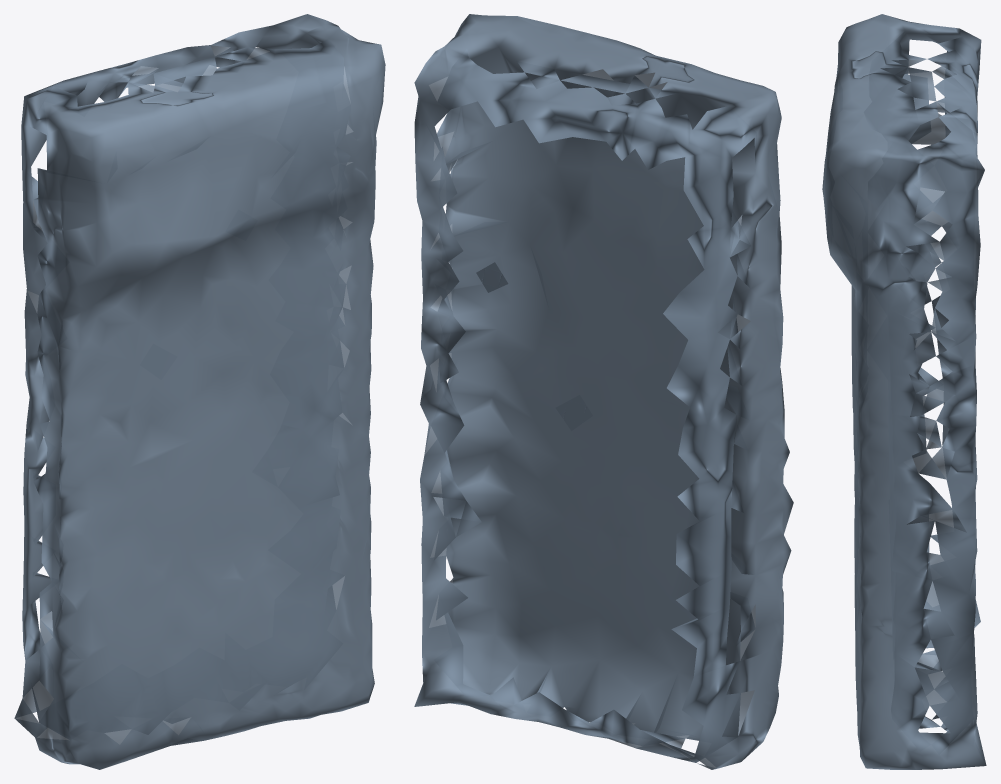
The model's file is bed_0143_recon.obj.
The picture shows the model from 3 angles, left to right: view 1: azimuth 30°, elevation 25°; view 2: azimuth 150°, elevation 25°; view 3: azimuth 270°, elevation 25°; orthographic projection. The views are drawn at different scales.
Size of the model in its own units: 0.8739 by 1.7 by 0.4024.
